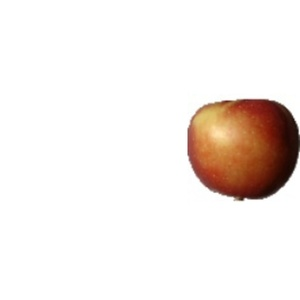maçã braeburn: (185, 97, 299, 203)
